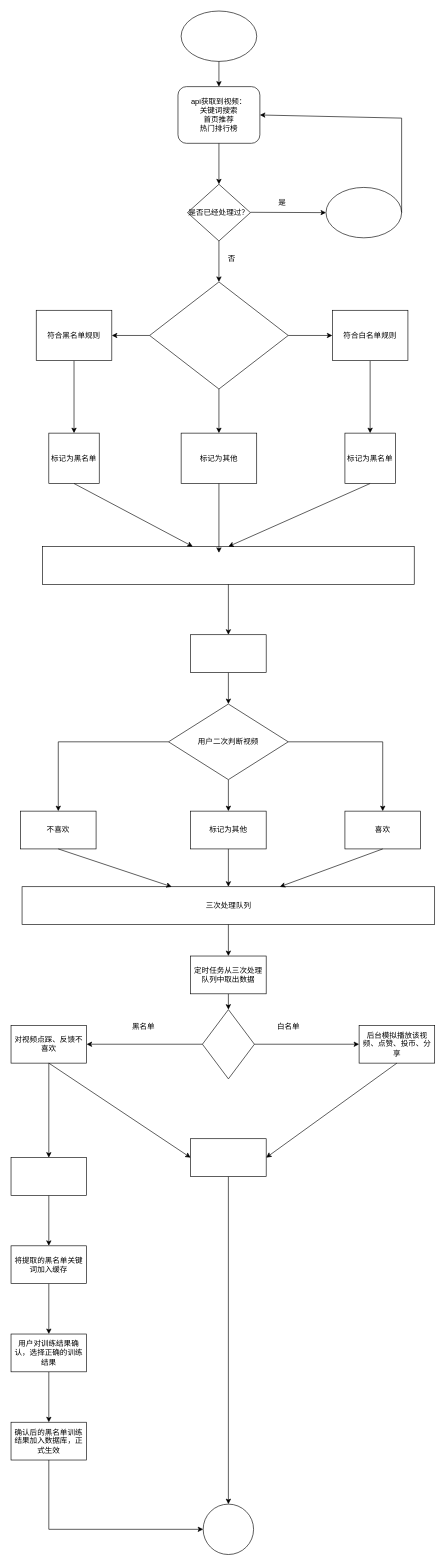
This 446x1566 diagram has some shape labels left out. The centre of each missing label's shape, as x and y in pixels:
"二次处理队列" goes at [228,565].
"初次处理 黑名单还是白名单还是其他？" goes at [218,335].
"判断黑白名单" goes at [228,1044].
"开始" goes at [218,35].
"标记为已处理，进入历史数据库" goes at [228,1157].
"根据点踩的视频信息提取黑名单关键词" goes at [48,1176].
"用户获取队列中初次处理后的视频" goes at [228,653].
"结束" goes at [228,1529].
"跳过" goes at [363,212].
